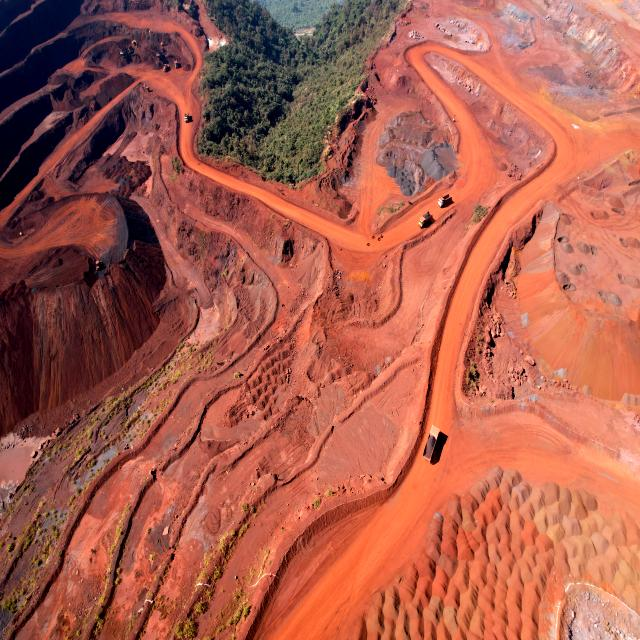Dumper truck: (422, 425, 442, 463), (418, 212, 431, 228), (437, 195, 452, 208)
car: (184, 113, 188, 122)
